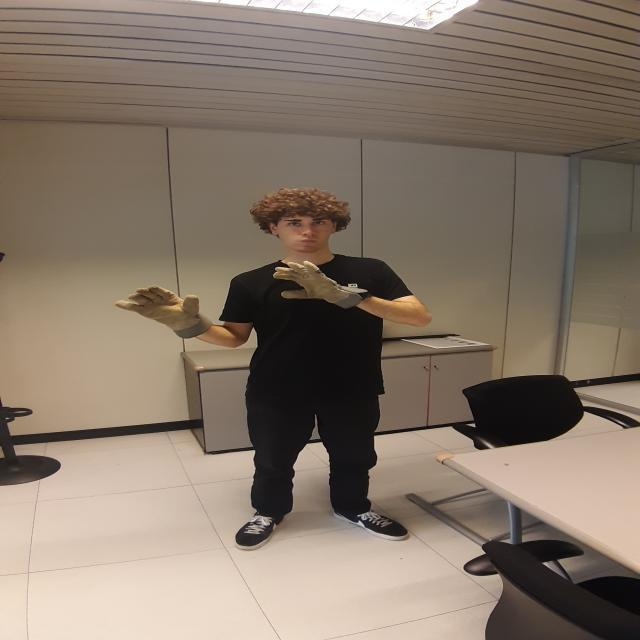gloved_hand: (115, 286, 209, 338), (274, 259, 364, 307)
